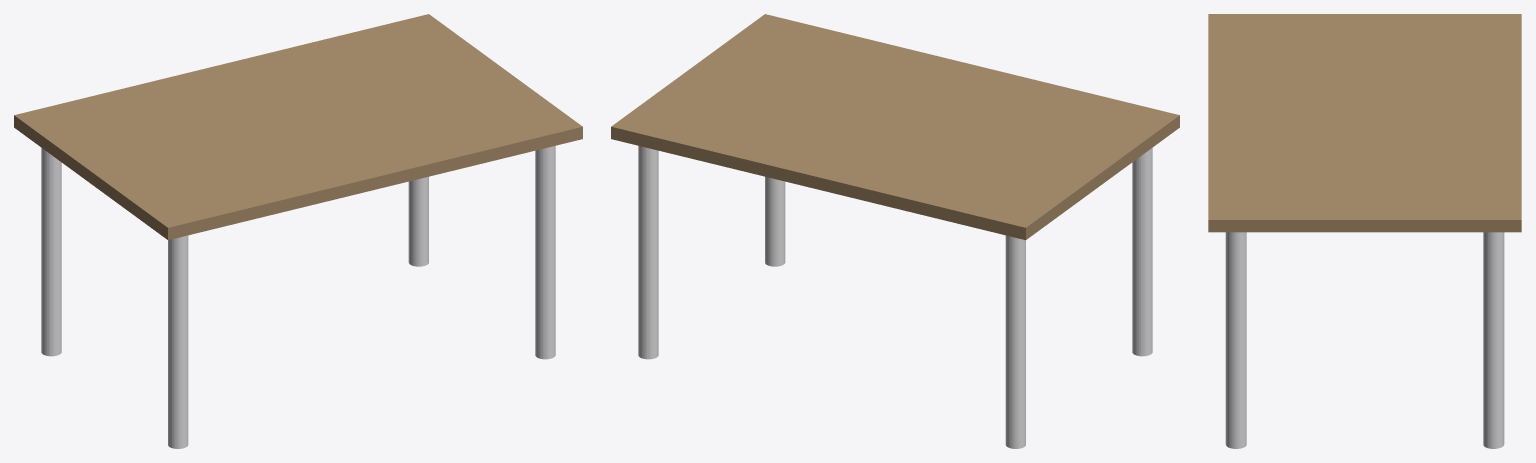
Rendered from dining_table.glb.
The picture shows the model from 3 angles, left to right: view 1: azimuth 30°, elevation 25°; view 2: azimuth 150°, elevation 25°; view 3: azimuth 270°, elevation 25°; orthographic projection.
Parts seen in each view (by area): view 1: TableTop_Asset, Leg_Asset, Leg_Asset.002, Leg_Asset.001, Leg_Asset.003; view 2: TableTop_Asset, Leg_Asset.001, Leg_Asset.003, Leg_Asset, Leg_Asset.002; view 3: TableTop_Asset, Leg_Asset.002, Leg_Asset.003.
Part boxes in pixels (x1,y1,x2,y2): TableTop_Asset: (14, 14, 582, 240); Leg_Asset: (168, 235, 188, 448); Leg_Asset.002: (535, 146, 555, 359); Leg_Asset.001: (41, 148, 61, 356); Leg_Asset.003: (408, 176, 428, 266); TableTop_Asset: (611, 14, 1179, 240); Leg_Asset.001: (1005, 235, 1025, 448); Leg_Asset.003: (638, 146, 658, 359); Leg_Asset: (1132, 148, 1152, 356); Leg_Asset.002: (765, 176, 785, 266); TableTop_Asset: (1208, 14, 1521, 232); Leg_Asset.002: (1225, 232, 1246, 448); Leg_Asset.003: (1483, 232, 1504, 448).
Bounding box in the file's own units: 1.4 × 0.75 × 0.9.
